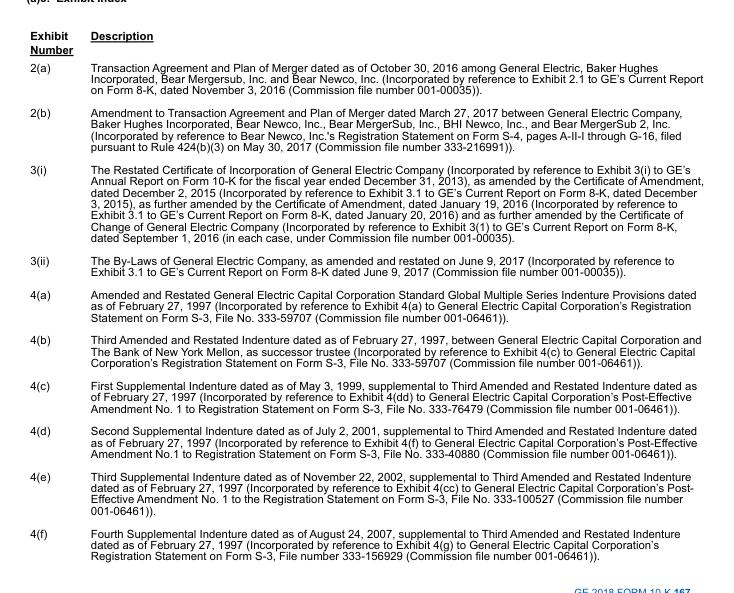table: (29, 28, 703, 561)
table column: (81, 28, 703, 561), (29, 28, 81, 561)
table column header: (29, 28, 703, 57)
table row: (29, 157, 703, 248), (29, 100, 703, 157), (29, 464, 703, 521), (29, 282, 703, 328), (29, 418, 703, 464), (29, 328, 703, 373), (29, 373, 703, 418), (29, 57, 703, 100), (29, 521, 703, 561), (29, 248, 703, 282), (29, 28, 703, 57)
